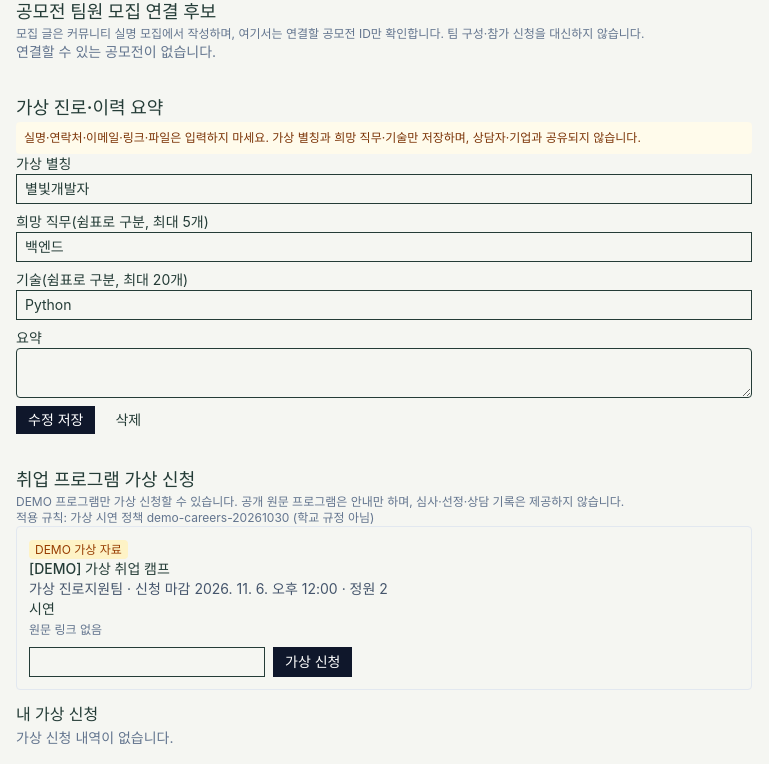
it: CareersPage › rejects late success before passive cleanup after private unmount (StrictMode=false)
(page scrolled)
Type "폐기할 신청 메모" into the field named "[DEMO] 가상 취업 캠프 메모" at (147, 662), box [29,647,265,677]
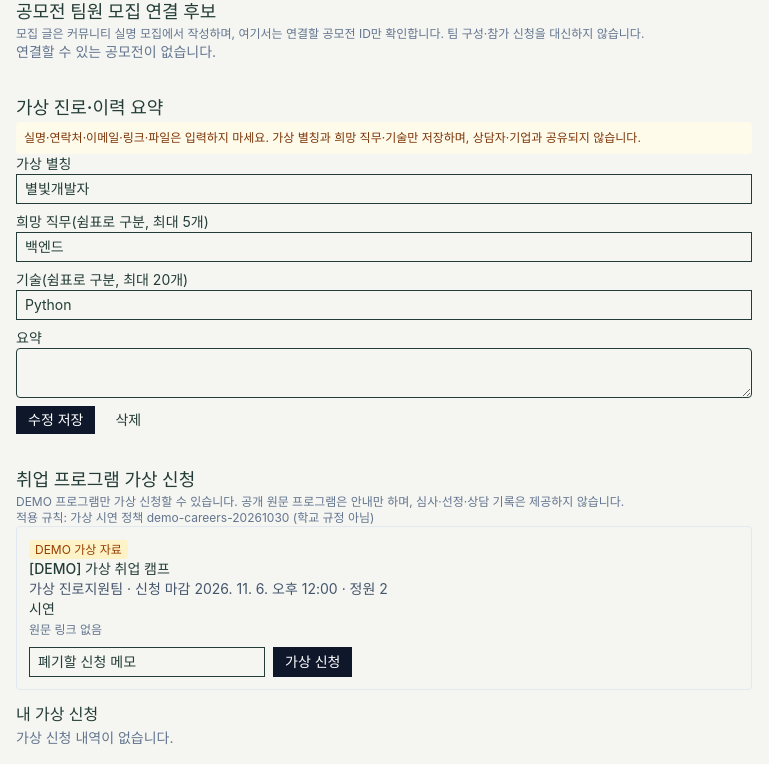
Click the button "가상 신청" at (313, 662), box [273,647,352,677]
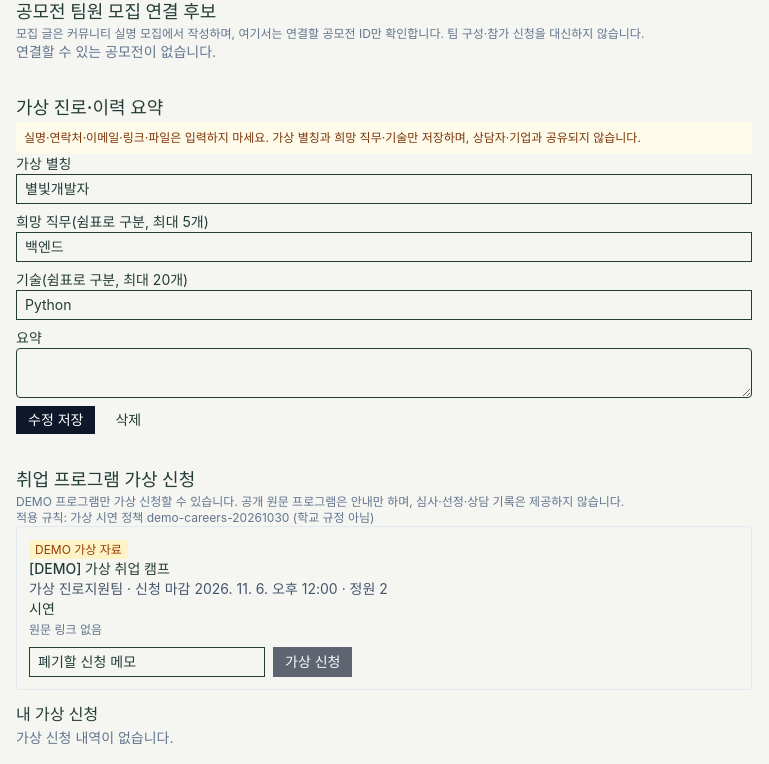
Replace the text in the field showing "별빛개발자" with "변경할 별칭" at (384, 189), box [16,174,752,204]
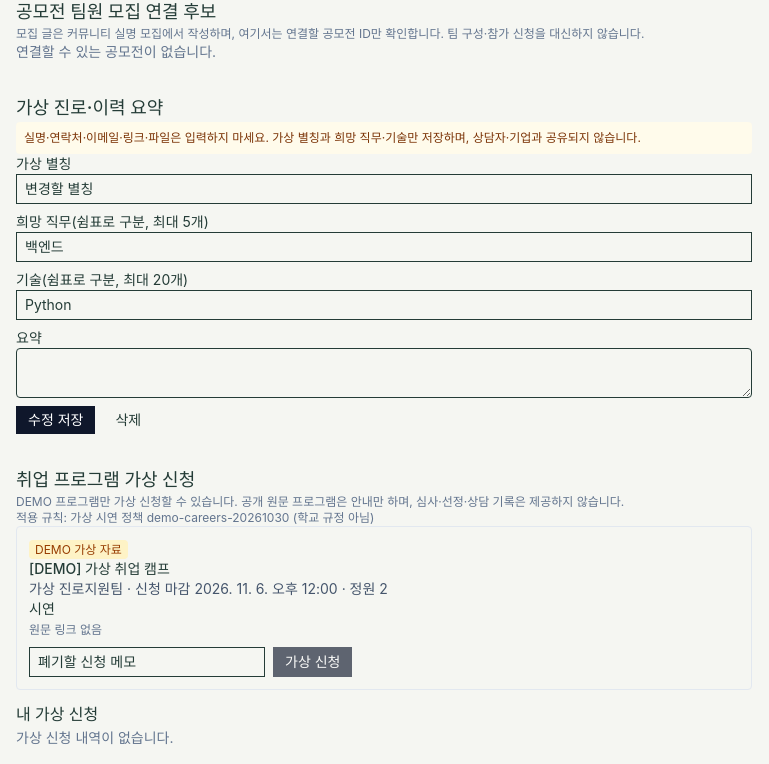
Click the button "수정 저장" at (56, 420), box [16,406,96,434]
(page scrolled)
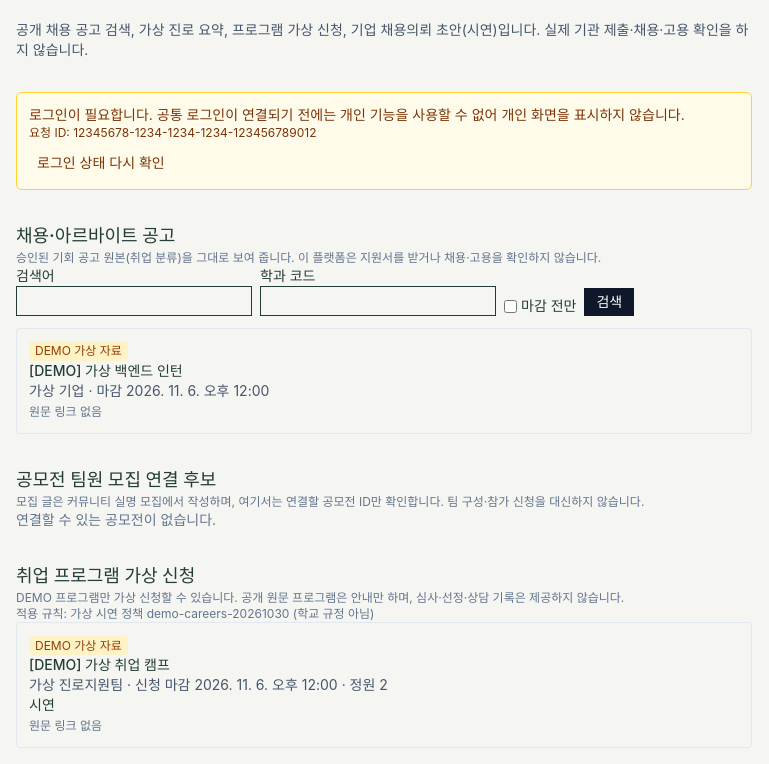
Check: the field showing "폐기할 신청 메모" is not shown
Check: the text "로그인이 필요합니다" is shown, box [29,106,685,123]
Check: the heading "내 가상 신청" is gone
